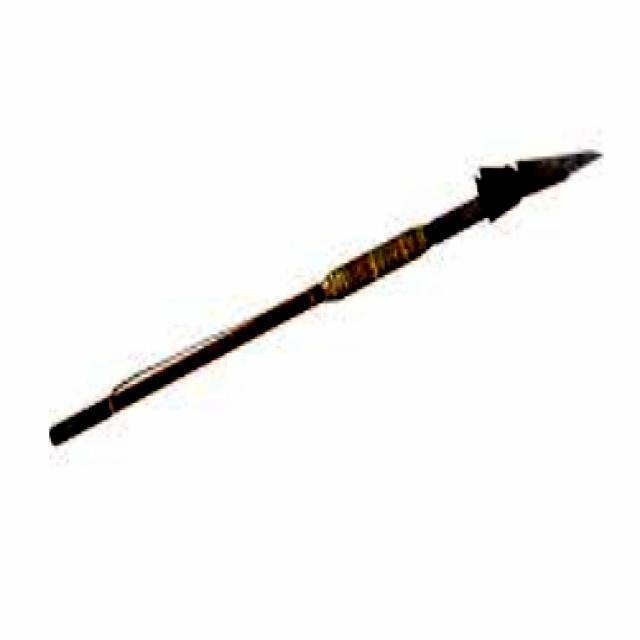spear: (31, 136, 610, 456)
